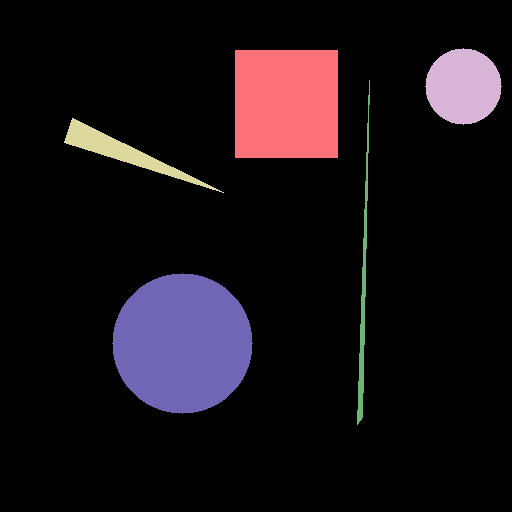circle: (112, 273, 252, 413), (425, 48, 501, 124)
square: (235, 50, 337, 157)
triangle: (66, 120, 223, 192)
